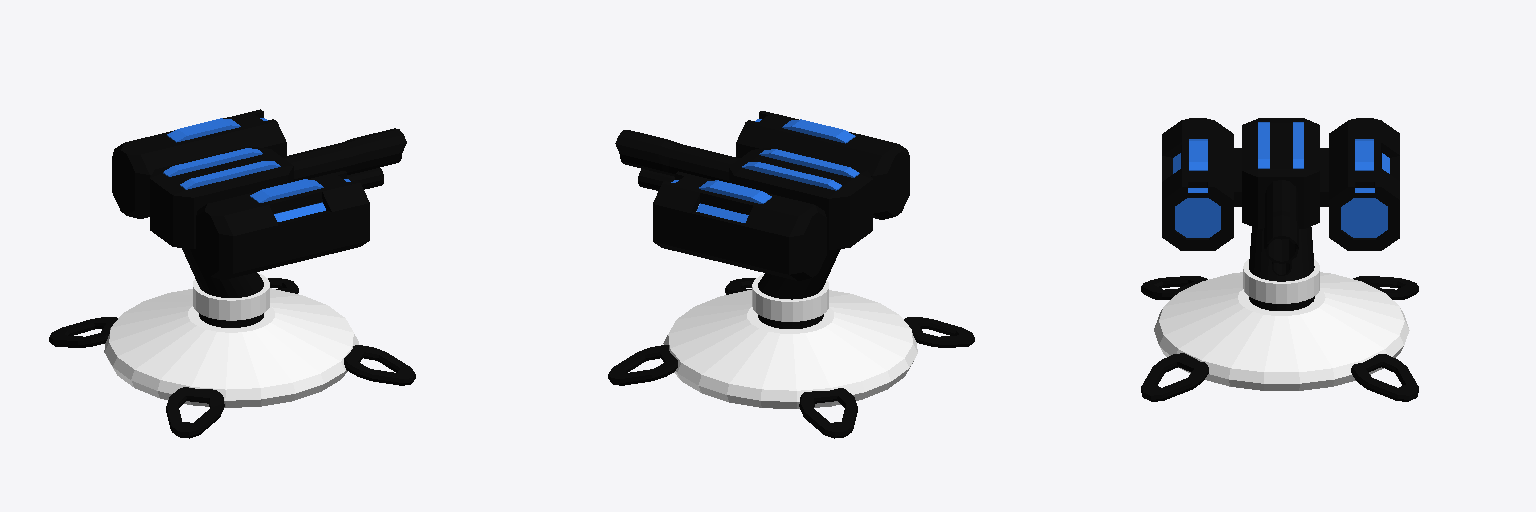
3 views of the same model, side by side, from view 1: azimuth 30°, elevation 25°; view 2: azimuth 150°, elevation 25°; view 3: azimuth 270°, elevation 25° (orthographic).
Parts seen in each view (by area): view 1: Cube; view 2: Cube; view 3: Cube.
Boxes of the visible parts, x1,y1,x2,y2 form: Cube: [49, 109, 415, 438]; Cube: [608, 111, 974, 438]; Cube: [1141, 118, 1418, 401].
Size of the model in its own units: 3.98 by 2.64 by 3.33.
1 materials, 1 textured.